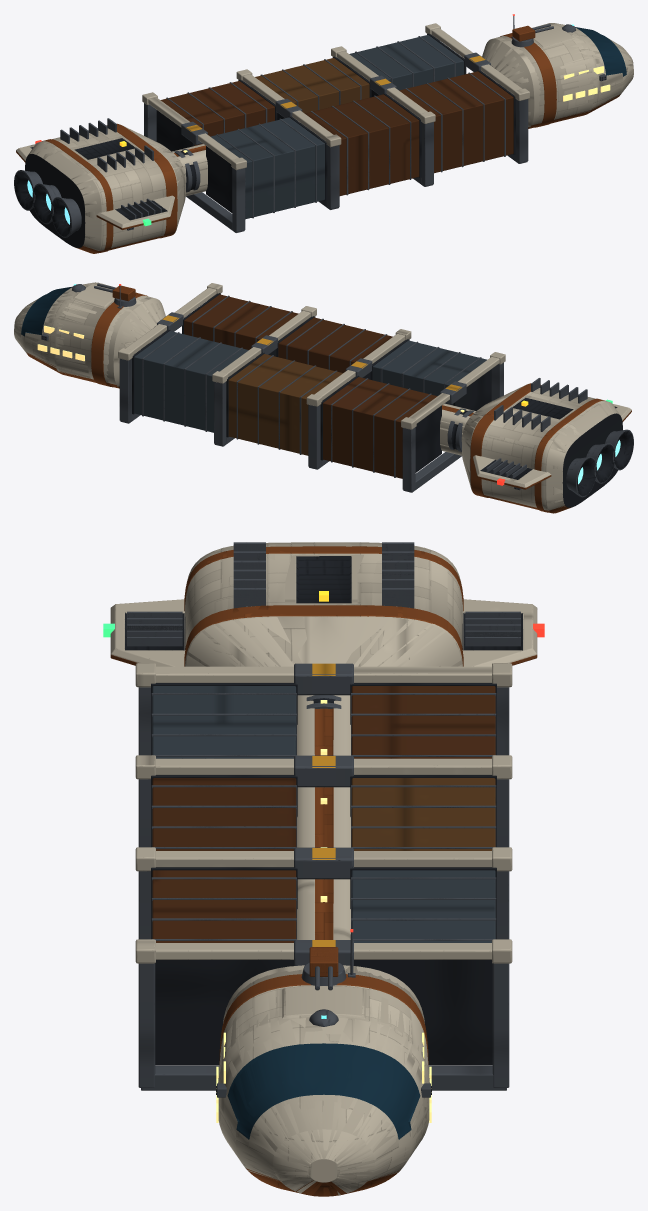
The model's file is helios_span_dmc.glb.
3 views of the same model, one above another, from view 1: azimuth 30°, elevation 25°; view 2: azimuth 150°, elevation 25°; view 3: azimuth 270°, elevation 25° (orthographic). The views are drawn at different scales.
Parts seen in each view (by area): view 1: LOD0_Armor_box, LOD0_Hull, LOD0_Mechanical, LOD0_Armor_b, LOD1_Hull, LOD0_MechanicalDark, LOD2_Hull, LOD0_Armor_teal, LOD1_Mechanical, LOD0_Livery, LOD2_MechanicalDark, LOD1_CANOPY (+5 smaller); view 2: LOD0_Armor_box, LOD0_Hull, LOD0_Mechanical, LOD0_Armor_b, LOD0_Armor_teal, LOD1_Hull, LOD0_MechanicalDark, LOD2_Hull, LOD1_Mechanical, LOD0_Livery, LOD2_MechanicalDark, LOD1_CANOPY (+5 smaller); view 3: LOD0_Hull, LOD0_Mechanical, LOD0_Armor_box, LOD0_MechanicalDark, LOD0_Armor_b, LOD1_Hull, LOD2_Hull, LOD1_Mechanical, LOD0_Armor_teal, LOD1_CANOPY, LOD0_Livery, LOD2_CANOPY (+6 smaller).
Boxes of the visible parts, x1,y1,x2,y2 form: LOD0_Armor_box: (160, 71, 513, 195); LOD0_Hull: (16, 23, 633, 250); LOD0_Mechanical: (14, 16, 606, 237); LOD0_Armor_b: (210, 35, 463, 219); LOD1_Hull: (19, 23, 633, 248); LOD0_MechanicalDark: (14, 33, 605, 247); LOD2_Hull: (20, 23, 633, 250); LOD0_Armor_teal: (255, 58, 369, 113); LOD1_Mechanical: (17, 16, 572, 237); LOD0_Livery: (42, 33, 556, 252); LOD2_MechanicalDark: (14, 138, 196, 236); LOD1_CANOPY: (575, 27, 626, 76); LOD0_Armor_box: (184, 294, 437, 478); LOD0_Hull: (14, 282, 631, 510); LOD0_Mechanical: (41, 284, 633, 497); LOD0_Armor_b: (134, 331, 486, 432); LOD0_Armor_teal: (228, 354, 342, 455); LOD1_Hull: (14, 283, 627, 507); LOD0_MechanicalDark: (42, 293, 633, 507); LOD2_Hull: (14, 282, 629, 510); LOD1_Mechanical: (72, 284, 633, 494); LOD0_Livery: (91, 292, 604, 512); LOD2_MechanicalDark: (451, 397, 633, 495); LOD1_CANOPY: (21, 286, 72, 336); LOD0_Hull: (110, 542, 537, 1193); LOD0_Mechanical: (127, 542, 520, 1097); LOD0_Armor_box: (152, 686, 495, 942); LOD0_MechanicalDark: (125, 556, 522, 1094); LOD0_Armor_b: (152, 686, 495, 942); LOD1_Hull: (111, 542, 536, 1193); LOD2_Hull: (111, 542, 537, 1195); LOD1_Mechanical: (127, 542, 520, 1090); LOD0_Armor_teal: (351, 778, 495, 850); LOD1_CANOPY: (227, 1043, 420, 1139); LOD0_Livery: (184, 546, 463, 1064); LOD2_CANOPY: (229, 1043, 418, 1139).
Size of what is drawn, in the model's own units: 29.22 by 5.14 by 9.52.
24 materials, 17 textured.
